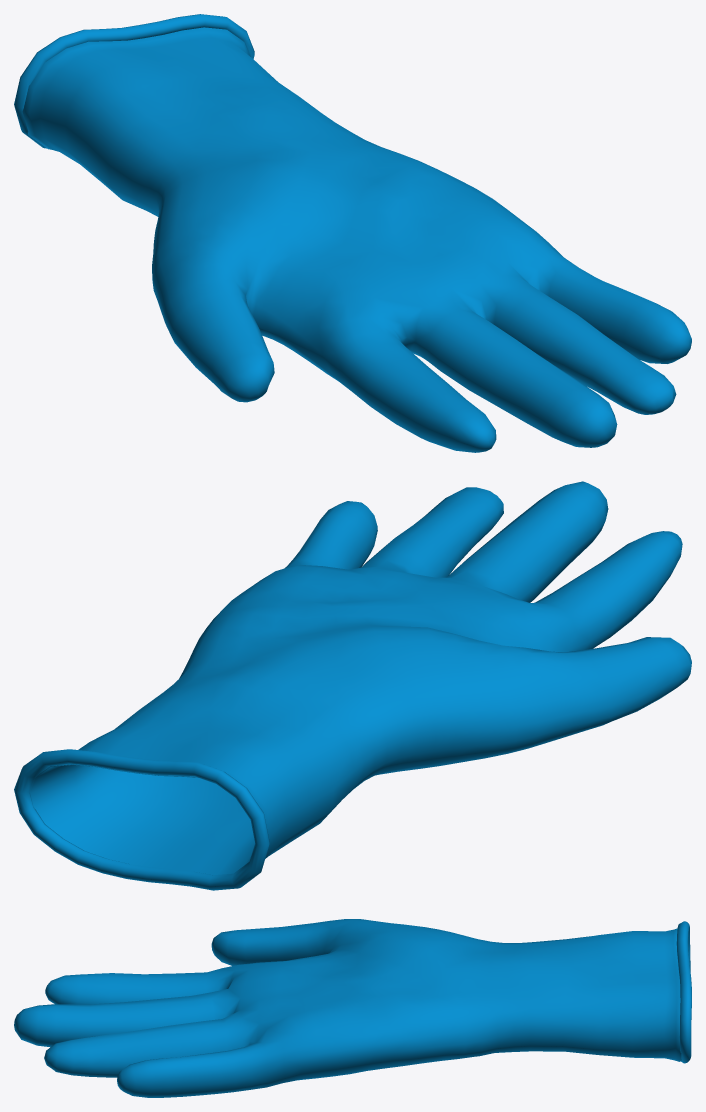
Rendered from Gangtay.fbx.
The picture shows the model from 3 angles, top to bottom: view 1: azimuth 30°, elevation 25°; view 2: azimuth 150°, elevation 25°; view 3: azimuth 270°, elevation 25°; orthographic projection. The views are drawn at different scales.
Visible parts, largest first — view 1: Gangtay; view 2: Gangtay; view 3: Gangtay.
Boxes of the visible parts, box(x1,y1,x2,y2) form: Gangtay: box(14, 14, 691, 452); Gangtay: box(14, 481, 691, 890); Gangtay: box(14, 919, 691, 1097).
Size of the model in its own units: 3.74 by 1.14 by 7.36.
Materials: 1 (1 with a texture image).
